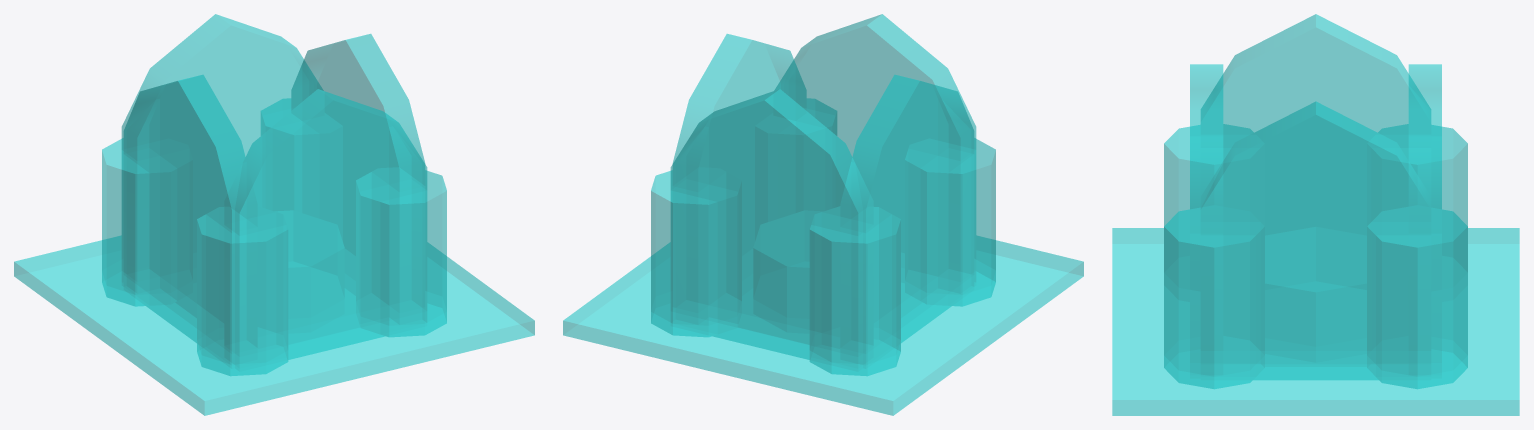
The model's file is SM_Prop_Fireplace_01_Collision_01.fbx.
The picture shows the model from 3 angles, left to right: view 1: azimuth 30°, elevation 25°; view 2: azimuth 150°, elevation 25°; view 3: azimuth 270°, elevation 25°; orthographic projection. The views are drawn at different scales.
Visible parts, largest first — view 1: SM_Prop_Fireplace_01_Collision_01; view 2: SM_Prop_Fireplace_01_Collision_01; view 3: SM_Prop_Fireplace_01_Collision_01.
Part boxes in pixels (bbox=[...]): SM_Prop_Fireplace_01_Collision_01: bbox=[14, 14, 534, 415]; SM_Prop_Fireplace_01_Collision_01: bbox=[563, 14, 1083, 415]; SM_Prop_Fireplace_01_Collision_01: bbox=[1112, 14, 1519, 415].
Bounding box in the file's own units: 582 × 419 × 582.
